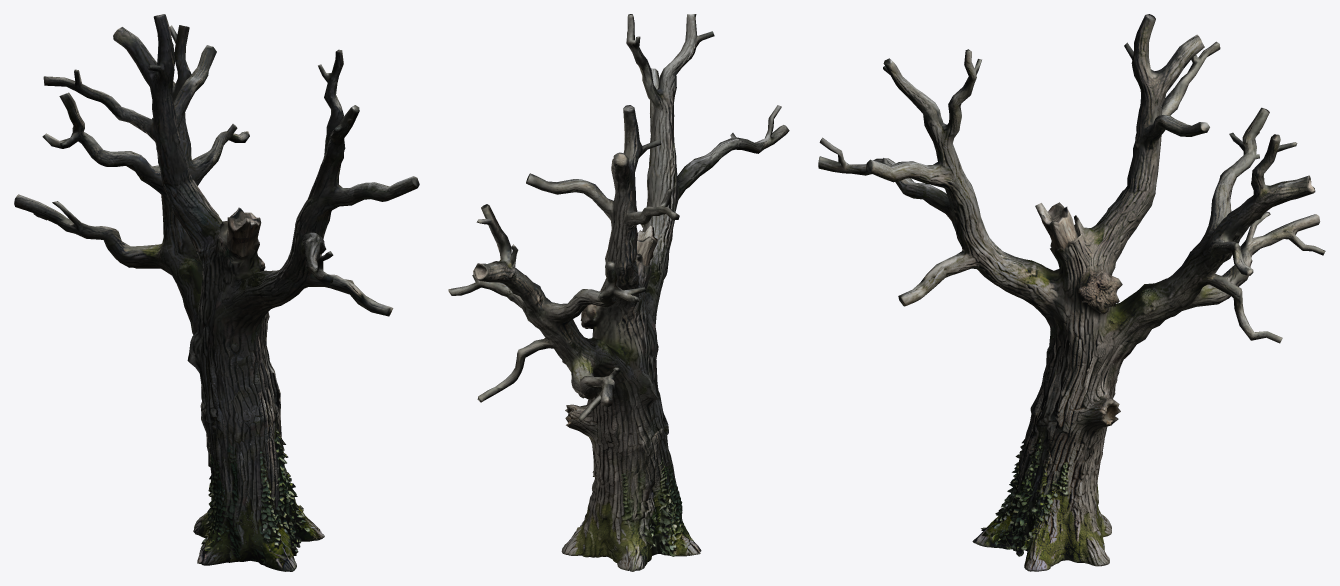
3 views of the same model, side by side, from view 1: azimuth 30°, elevation 25°; view 2: azimuth 150°, elevation 25°; view 3: azimuth 270°, elevation 25° (orthographic). The views are drawn at different scales.
Parts seen in each view (by area): view 1: tripo_node_d8d00a59-781f-426d-8401-3a1c270da7c8; view 2: tripo_node_d8d00a59-781f-426d-8401-3a1c270da7c8; view 3: tripo_node_d8d00a59-781f-426d-8401-3a1c270da7c8.
Part boxes in pixels (<box>): tripo_node_d8d00a59-781f-426d-8401-3a1c270da7c8: <box>14,14,419,571</box>; tripo_node_d8d00a59-781f-426d-8401-3a1c270da7c8: <box>448,14,789,571</box>; tripo_node_d8d00a59-781f-426d-8401-3a1c270da7c8: <box>818,14,1325,571</box>.
Size of the model in its own units: 0.4482 by 0.9823 by 0.8781.
1 material, 1 textured.
